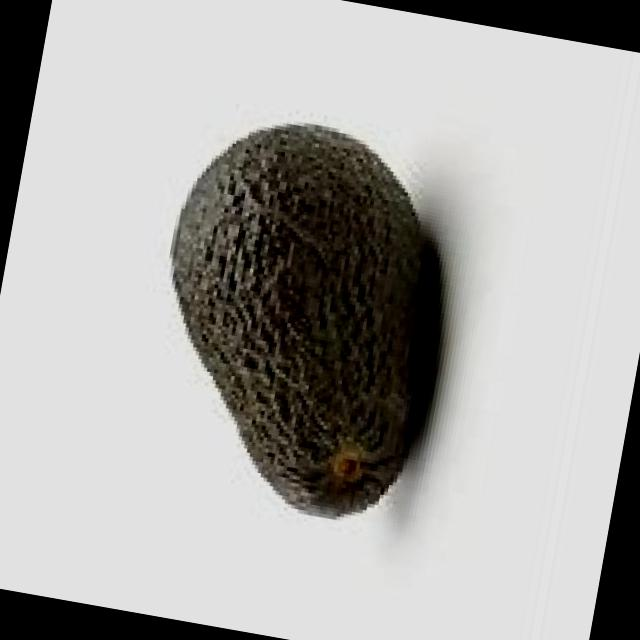avocado: (113, 77, 510, 558)
